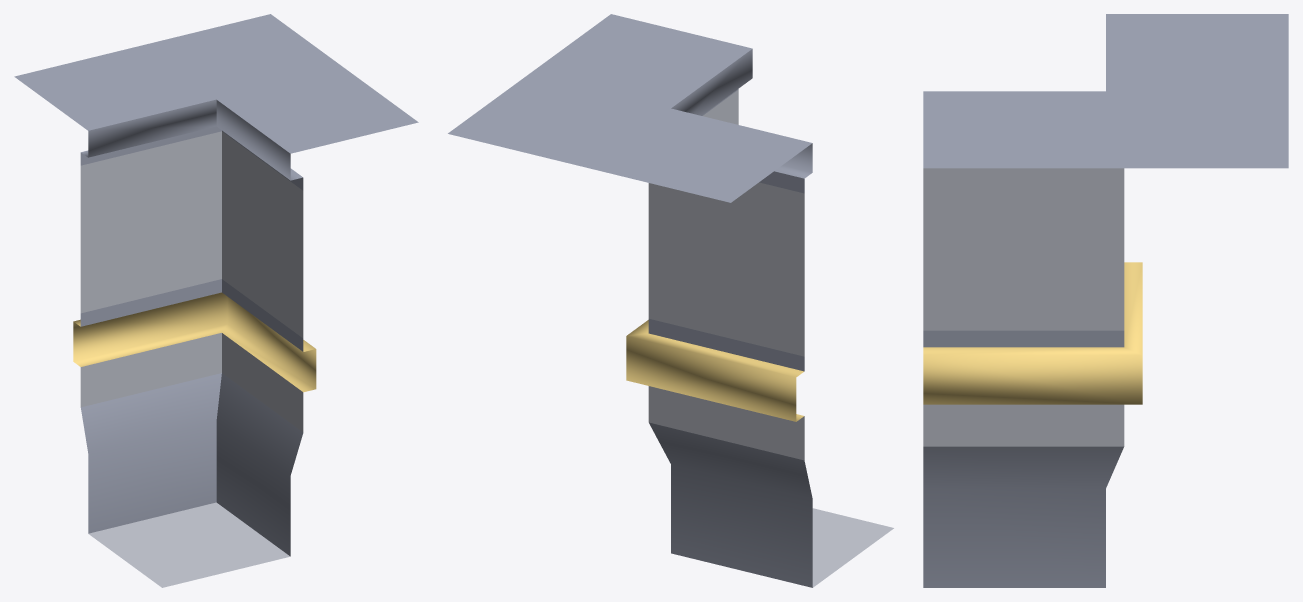
File: structure-corner-inner.fbx
3 renders of one model, left to right at view 1: azimuth 30°, elevation 25°; view 2: azimuth 150°, elevation 25°; view 3: azimuth 270°, elevation 25°, orthographic. The views are drawn at different scales.
Visible parts, largest first — view 1: structure-corner-inner; view 2: structure-corner-inner; view 3: structure-corner-inner.
Boxes of the visible parts, x1,y1,x2,y2 form: structure-corner-inner: [14, 14, 418, 587]; structure-corner-inner: [448, 14, 893, 587]; structure-corner-inner: [923, 14, 1288, 587].
Bounding box in the file's own units: 200 × 300 × 200.
